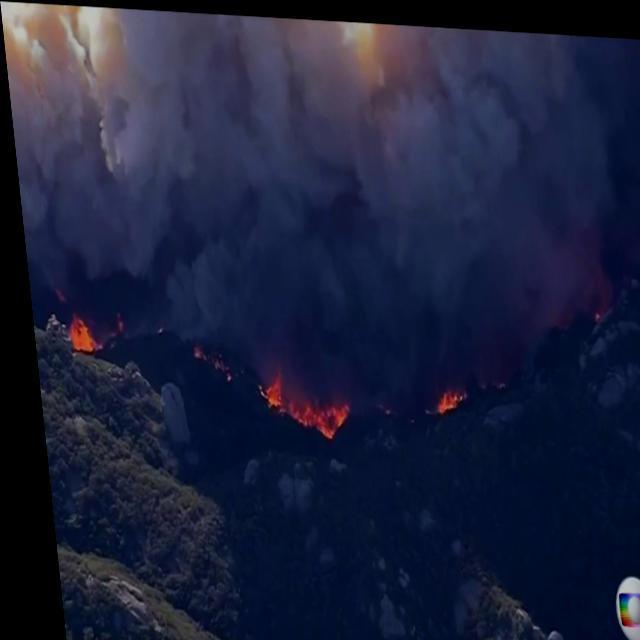Fire: (249, 376, 349, 434), (186, 342, 226, 378), (60, 309, 88, 356), (426, 384, 462, 410)
